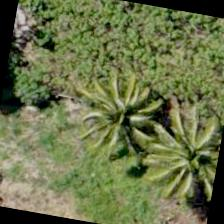Kelapa_Sawit: (64, 63, 168, 167), (137, 107, 223, 209)
